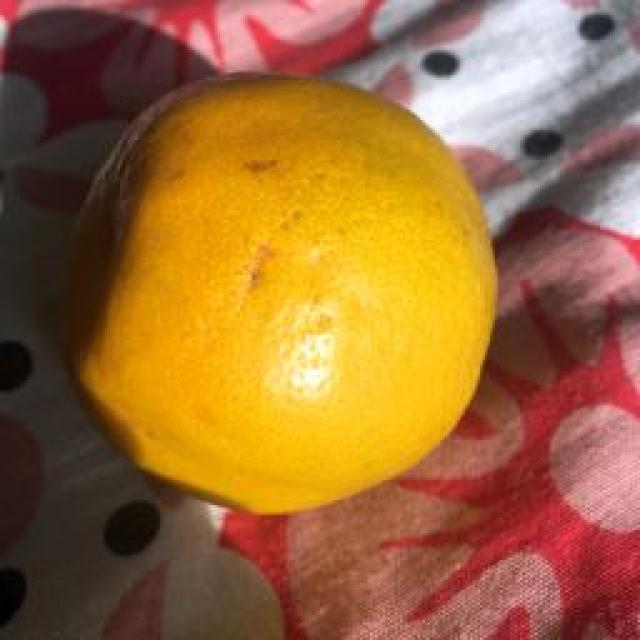Good_Orange: (62, 72, 500, 518)
